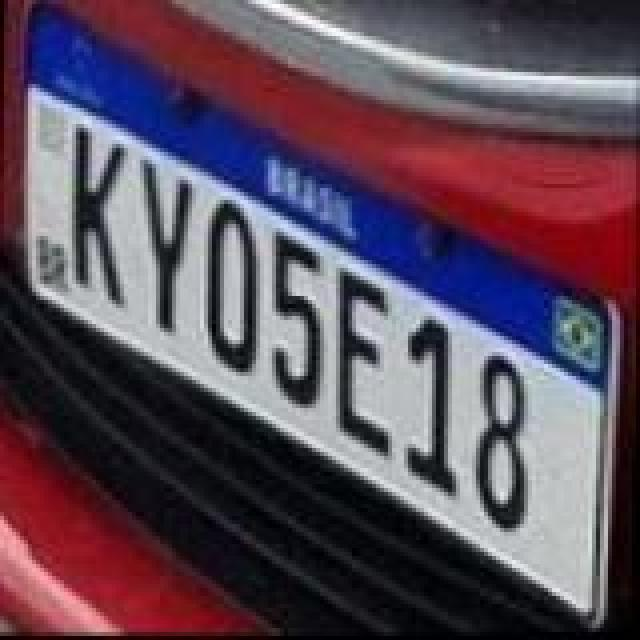1: (406, 314, 466, 502)
5: (336, 268, 404, 460), (268, 224, 328, 408)
8: (468, 354, 532, 538)
K: (64, 126, 128, 310)
O: (198, 194, 262, 374)
Y: (136, 158, 200, 338)
